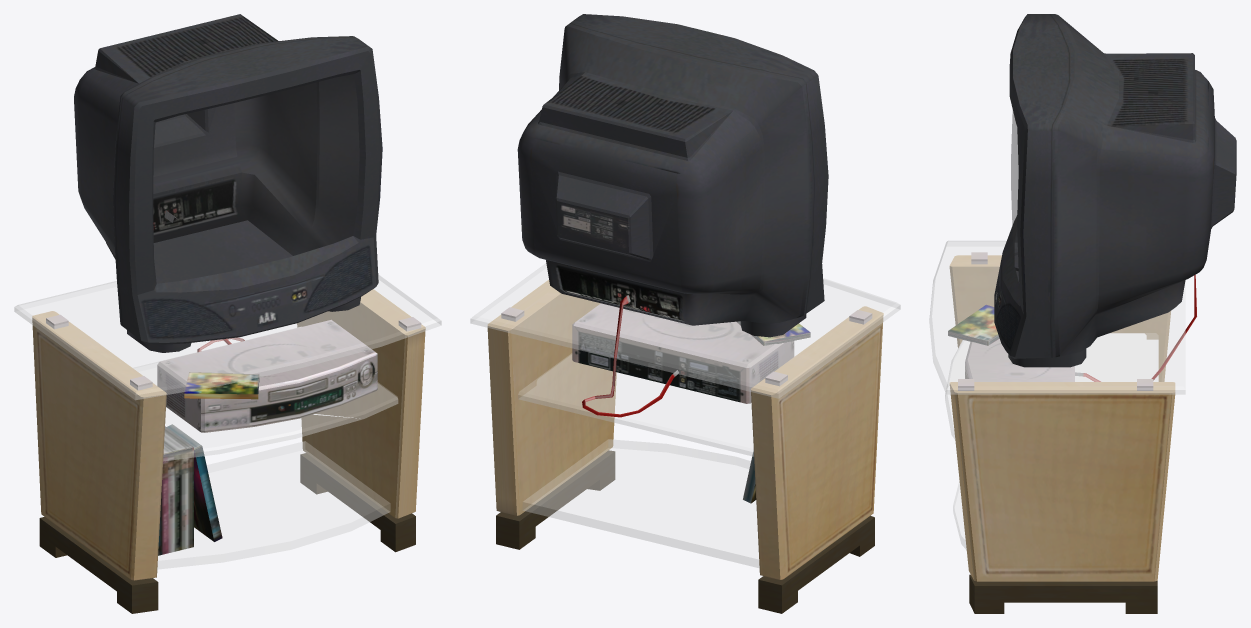
The picture shows the model from 3 angles, left to right: view 1: azimuth 30°, elevation 25°; view 2: azimuth 150°, elevation 25°; view 3: azimuth 270°, elevation 25°; orthographic projection.
Parts seen in each view (by area): view 1: TV; view 2: TV; view 3: TV.
Part boxes in pixels (box(x1,y1,x2,y2)): TV: box(14, 14, 441, 613); TV: box(470, 14, 900, 613); TV: box(929, 14, 1236, 613).
Size of the model in its own units: 0.8003 by 1.22 by 0.7019.
Materials: 3 (3 with a texture image).
